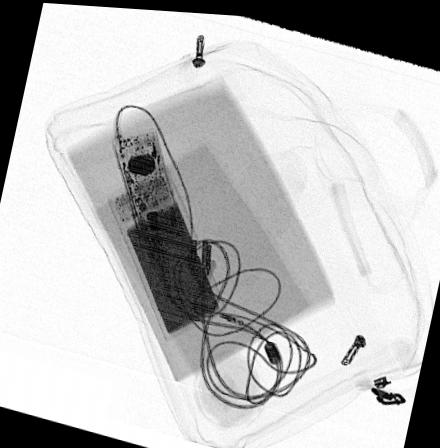Powerbank: (106, 170, 227, 337)
